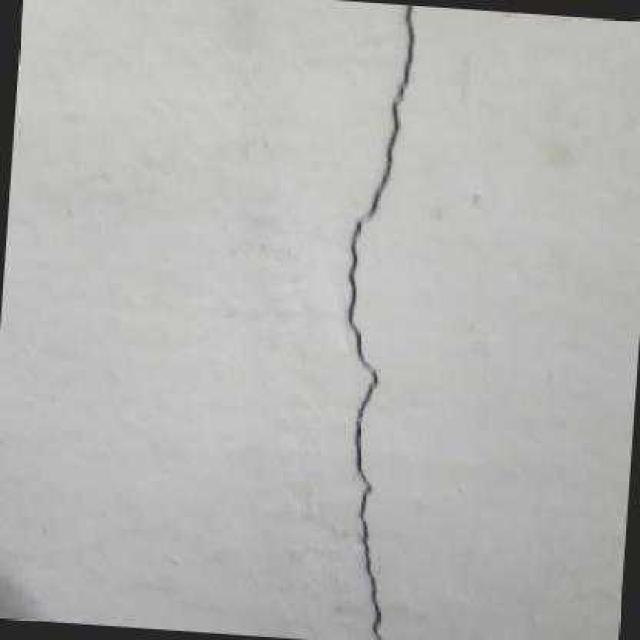D00: (346, 5, 413, 640)
